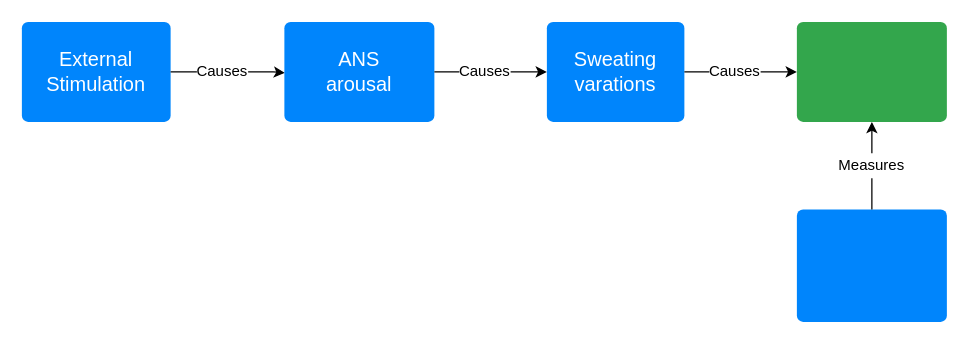
This 968x343 diagram has some shape labels left out. The box of each missing label's shape, as (x1, y1, x2, y2) in pixels:
Changes in Skin Conductance: (796, 21, 946, 121)
Electrodermal Activiy: (796, 209, 946, 321)
